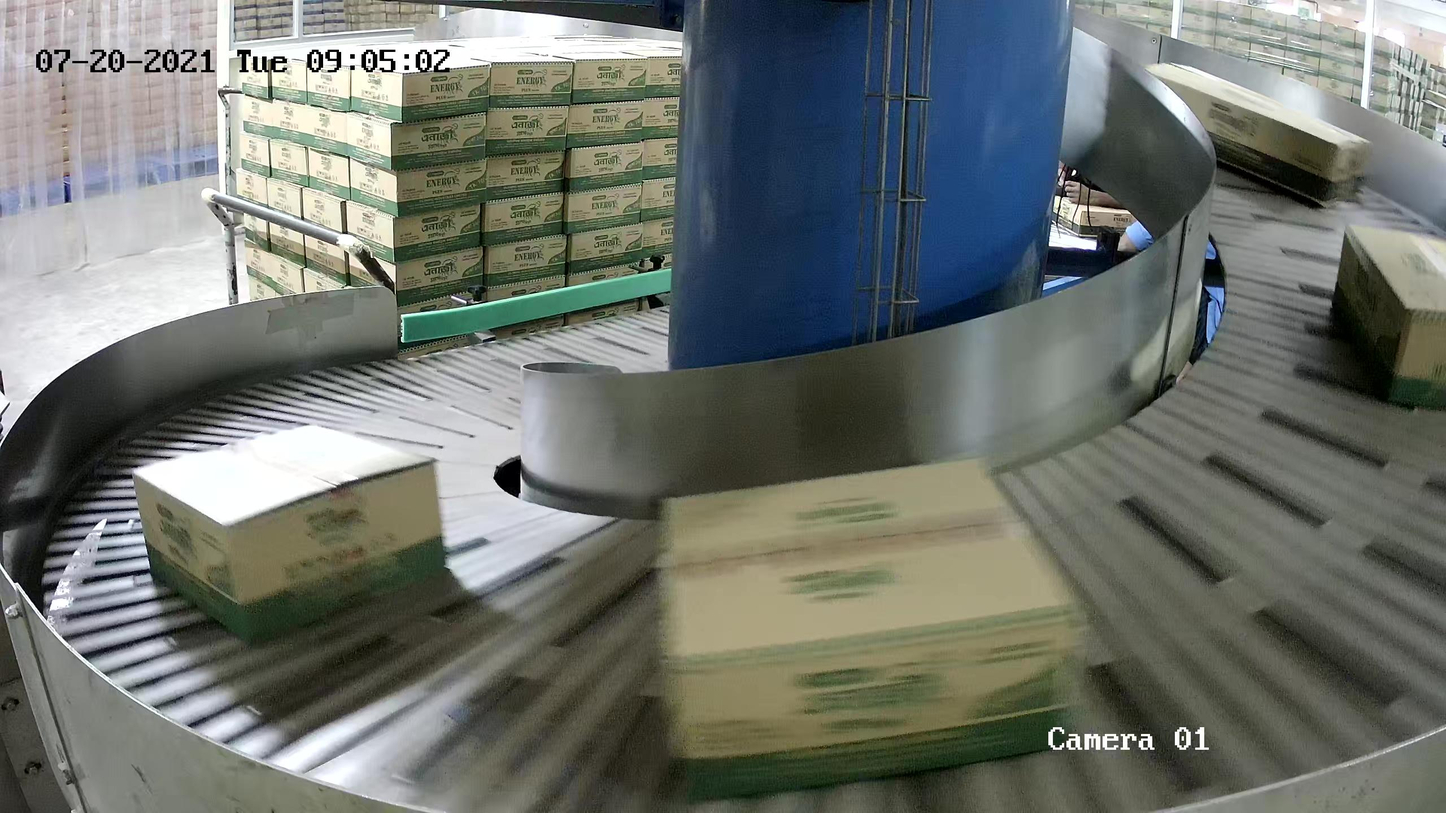Box: (654, 452, 1094, 805), (129, 422, 449, 647), (1139, 61, 1371, 209), (1330, 222, 1446, 411)
